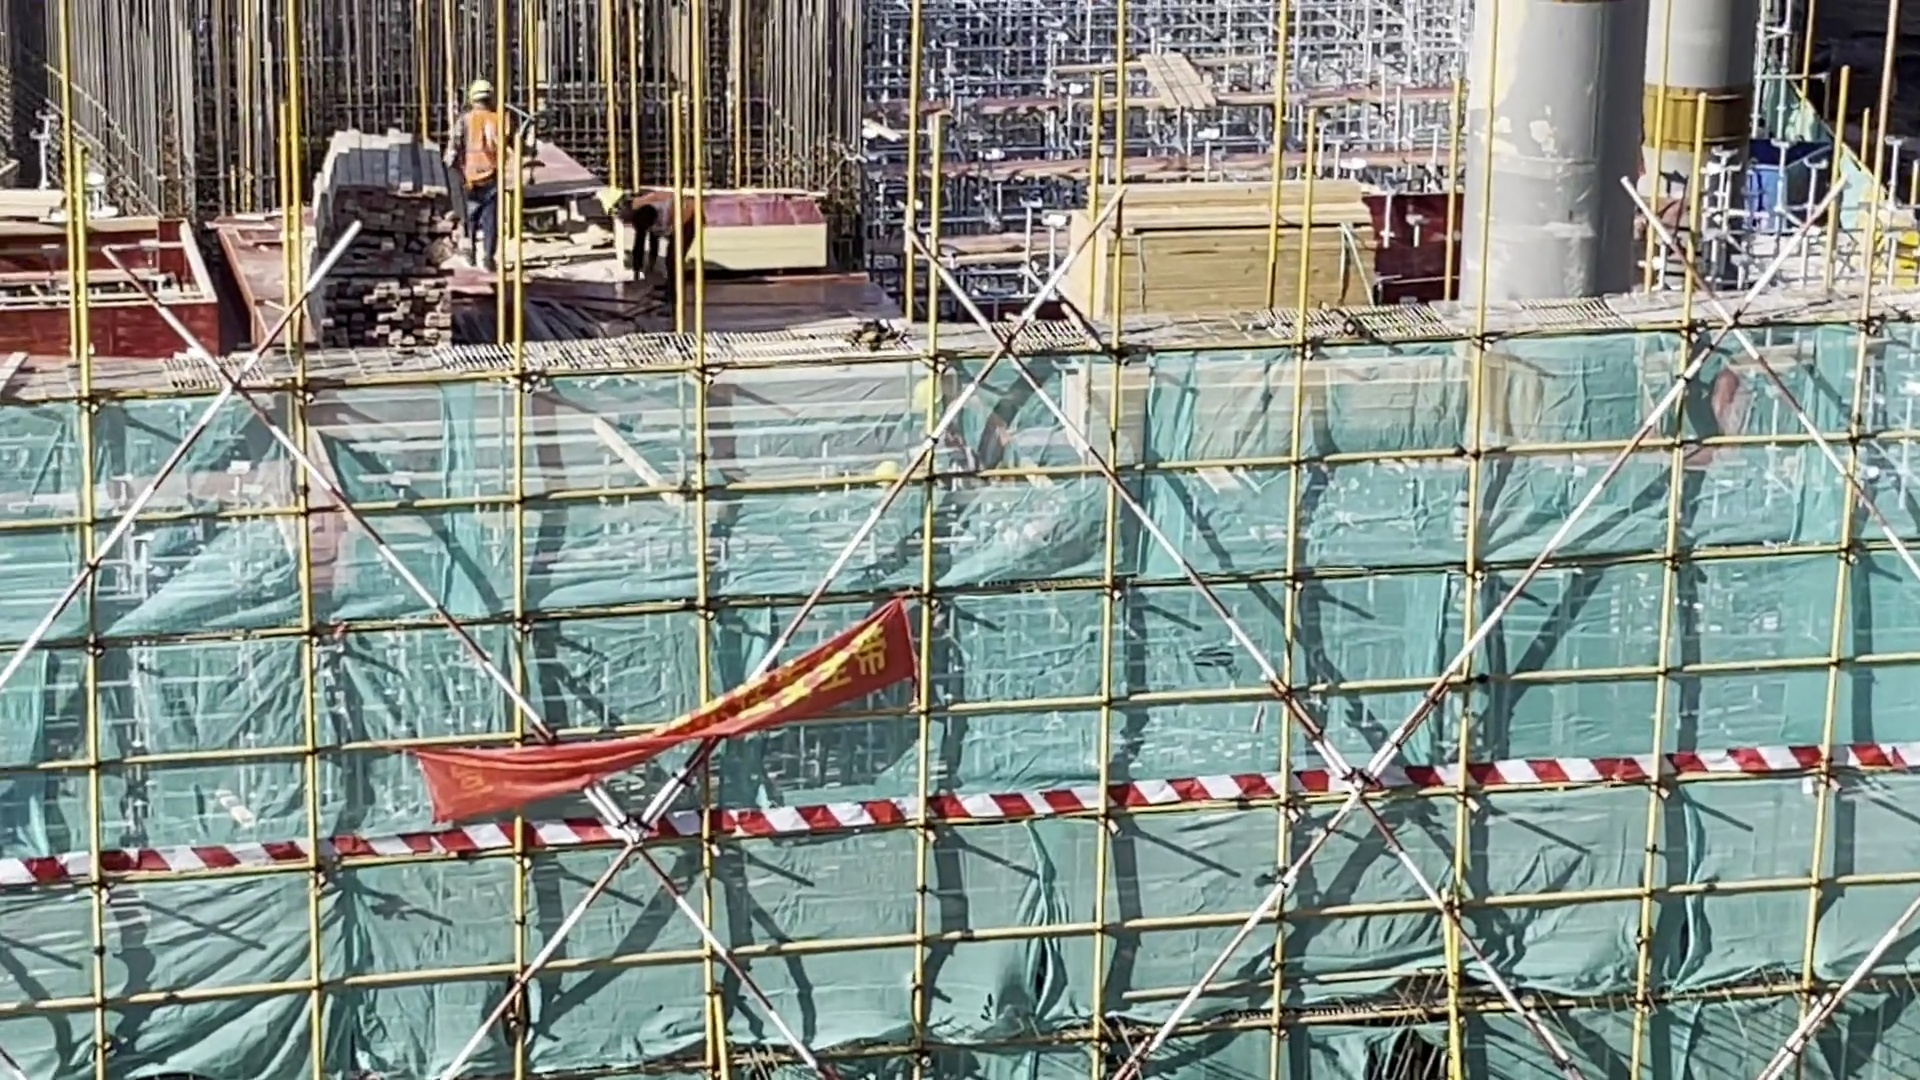helmet: (459, 71, 493, 100)
person: (436, 78, 514, 275)
